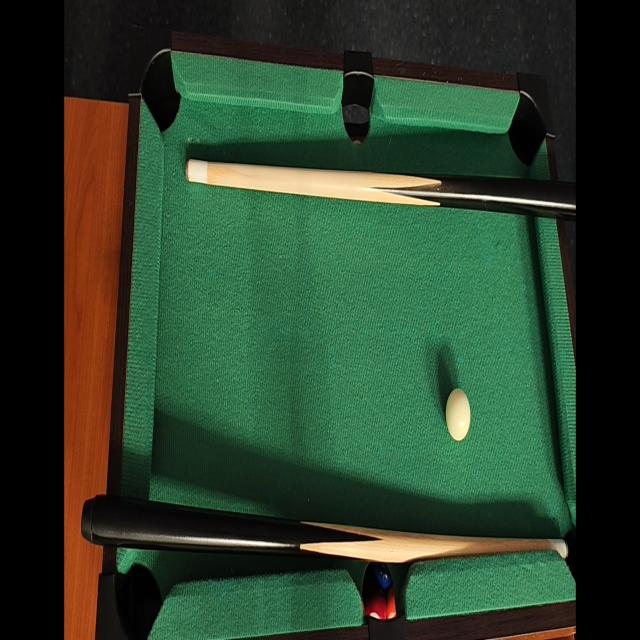cue ball: (446, 387, 472, 441)
